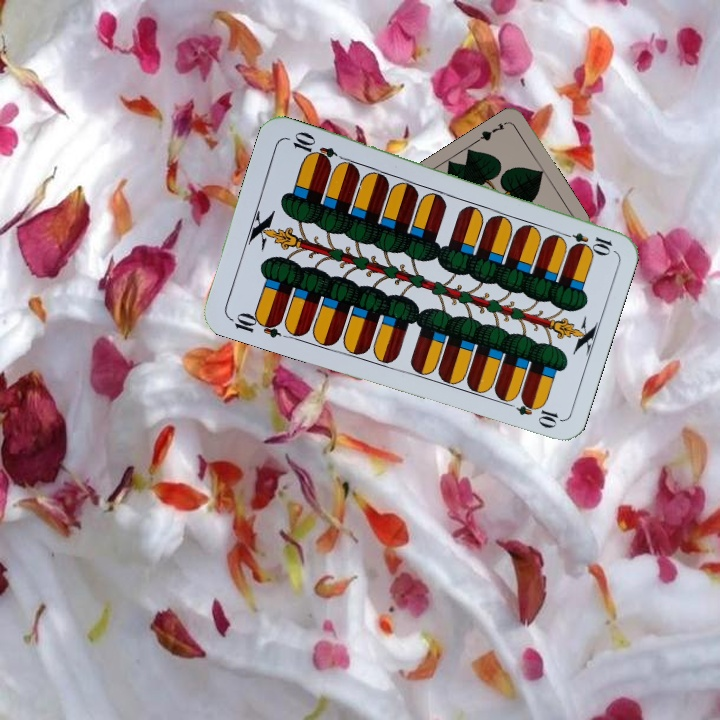E10: (225, 308, 284, 341), (556, 228, 615, 256)
G7: (474, 117, 510, 144)
